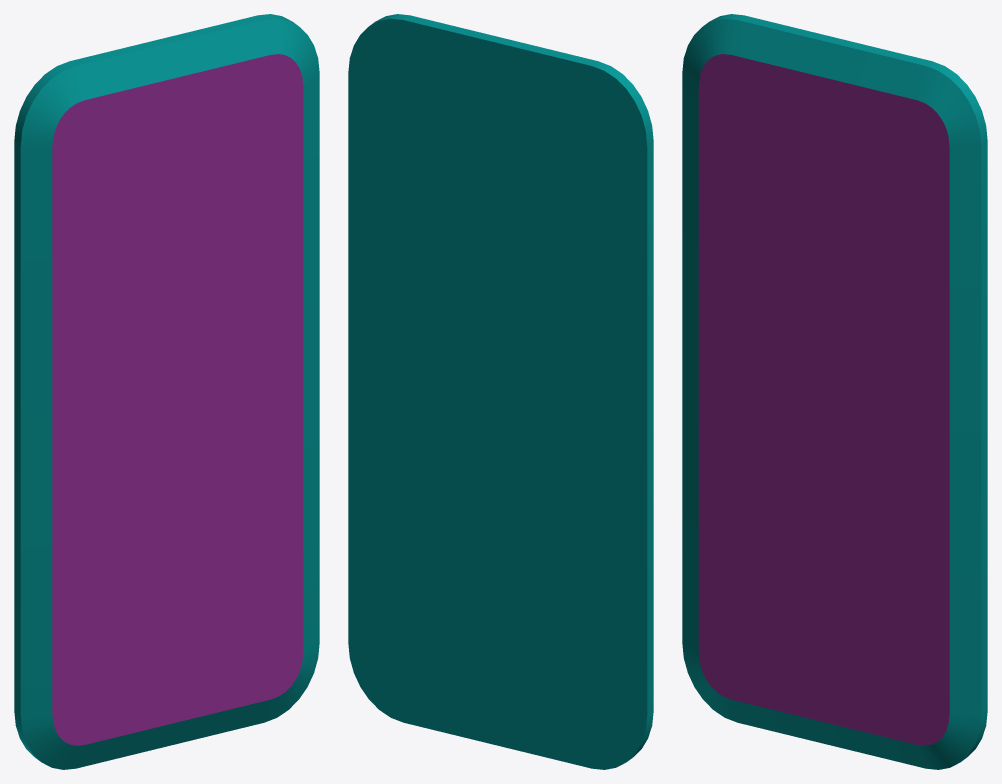
The model's file is House_12.fbx.
The picture shows the model from 3 angles, left to right: view 1: azimuth 30°, elevation 25°; view 2: azimuth 150°, elevation 25°; view 3: azimuth 330°, elevation 25°; orthographic projection.
Parts seen in each view (by area): view 1: House_12; view 2: House_12; view 3: House_12.
Boxes of the visible parts, <box> form: House_12: <box>14,14,319,769</box>; House_12: <box>348,14,653,769</box>; House_12: <box>682,14,987,769</box>.
Bounding box in the file's own units: 36.05 × 80.96 × 2.94.
